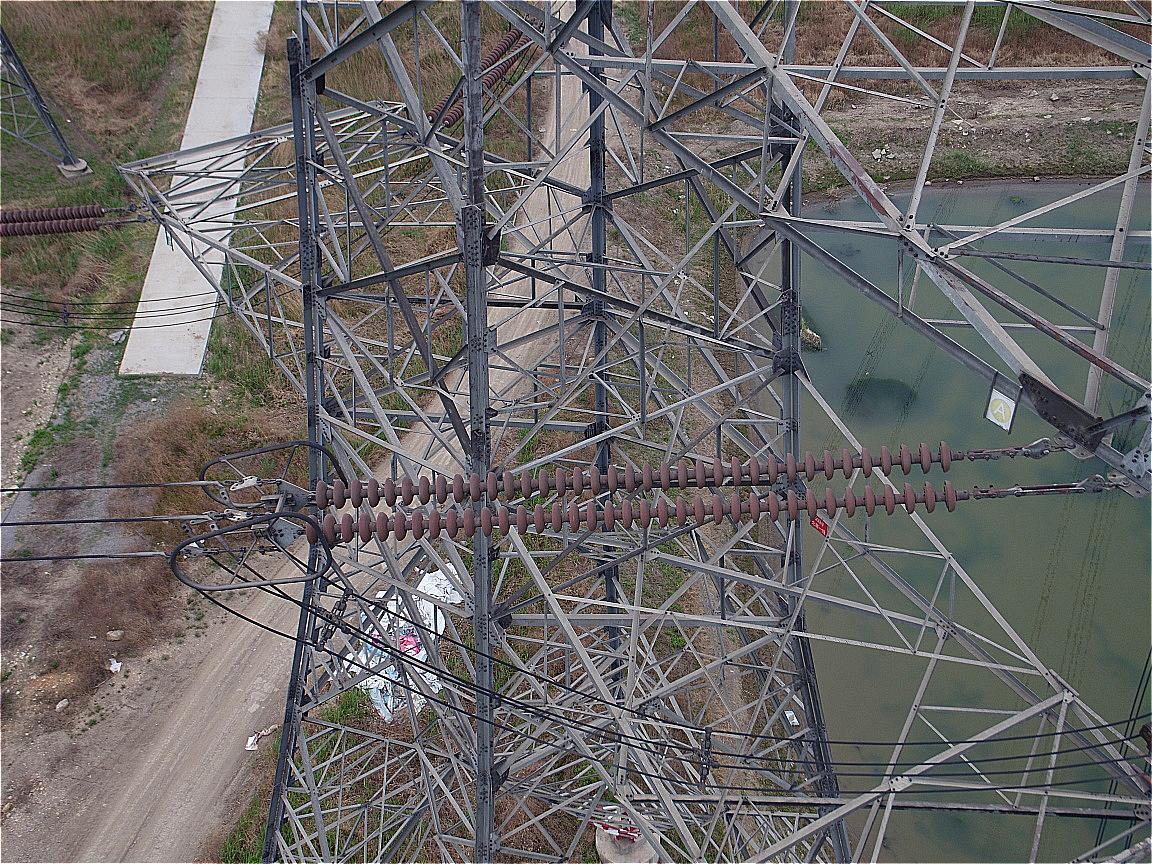insultor1: (304, 438, 957, 546)
